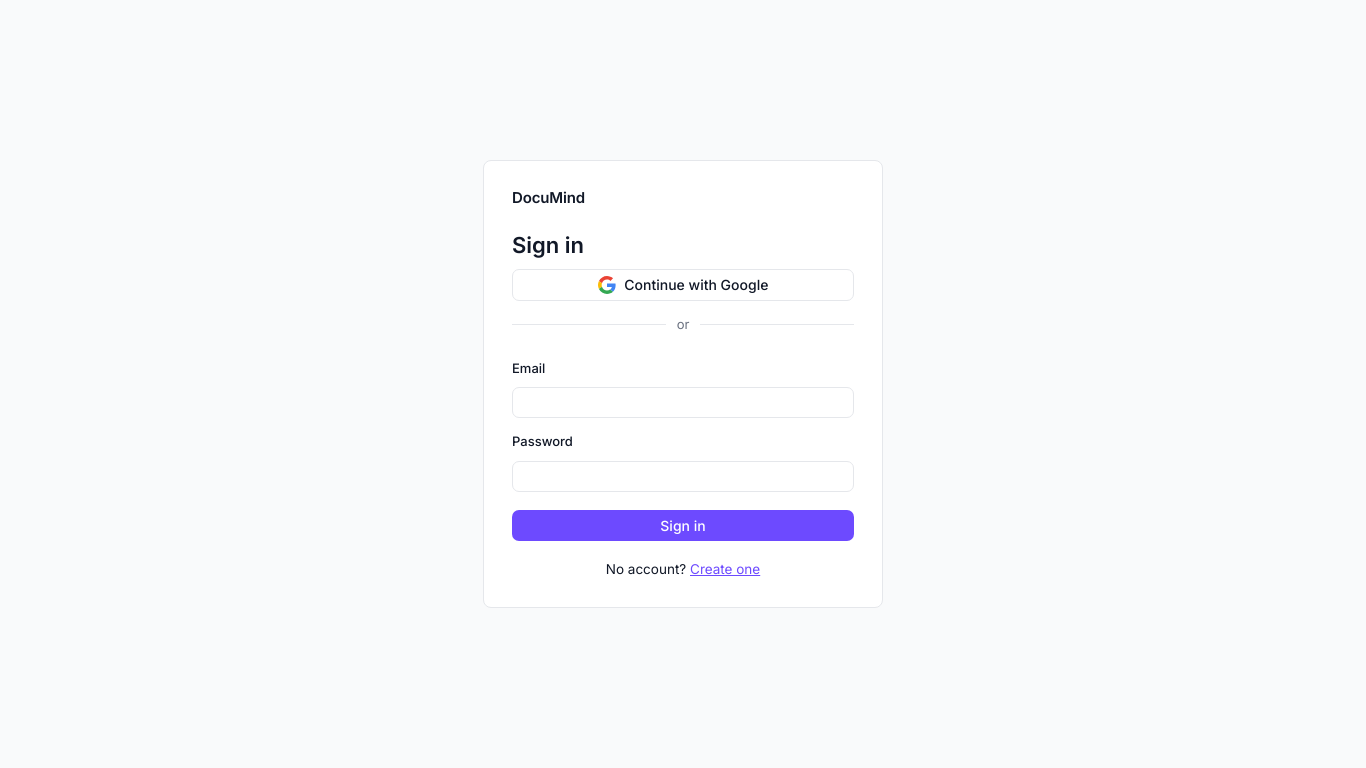
Test: Authentication › login success restores the user and opens the dashboard with the org header set
Type "alice@example.com" into the field labelled "Email". click: [683, 403]
box: 512,387 -> 854,418
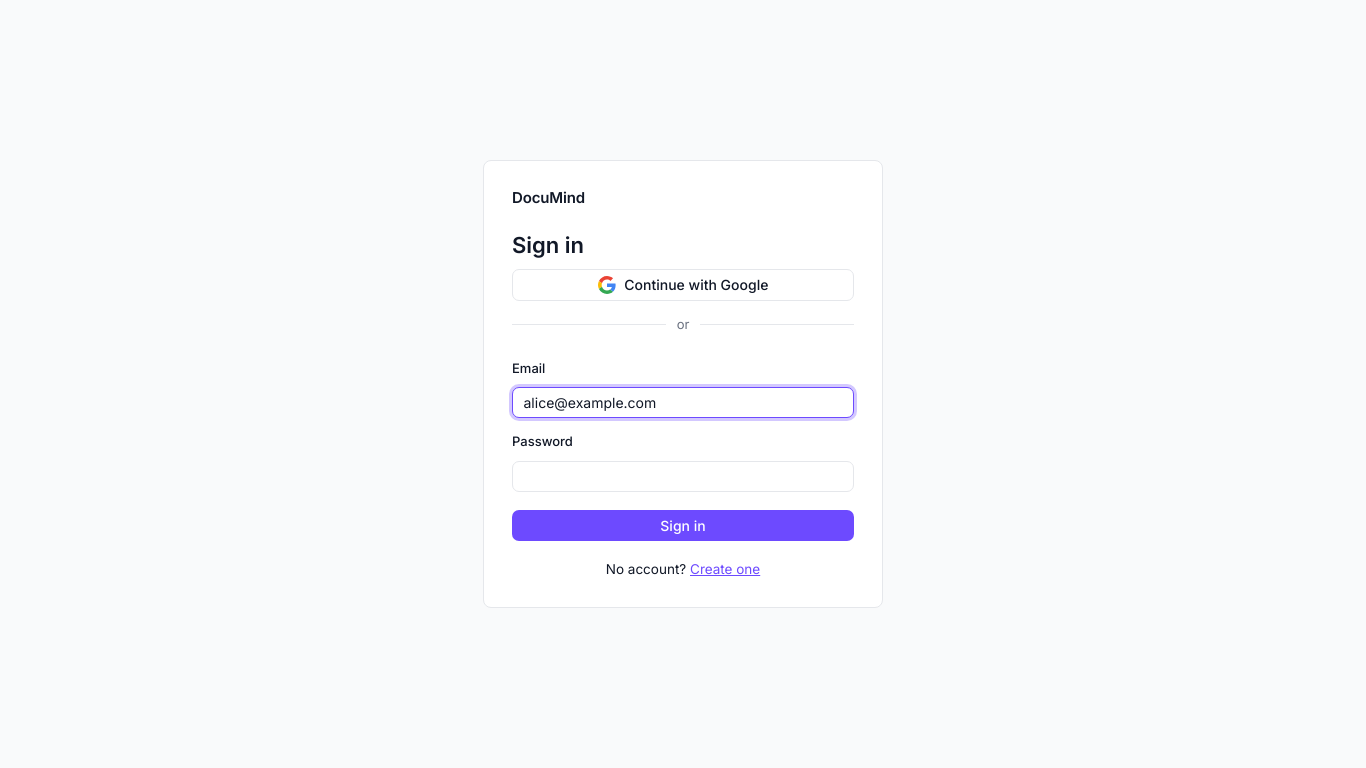
Type "Password123!" into the password field labelled "Password". click: [683, 476]
box: 512,460 -> 854,492
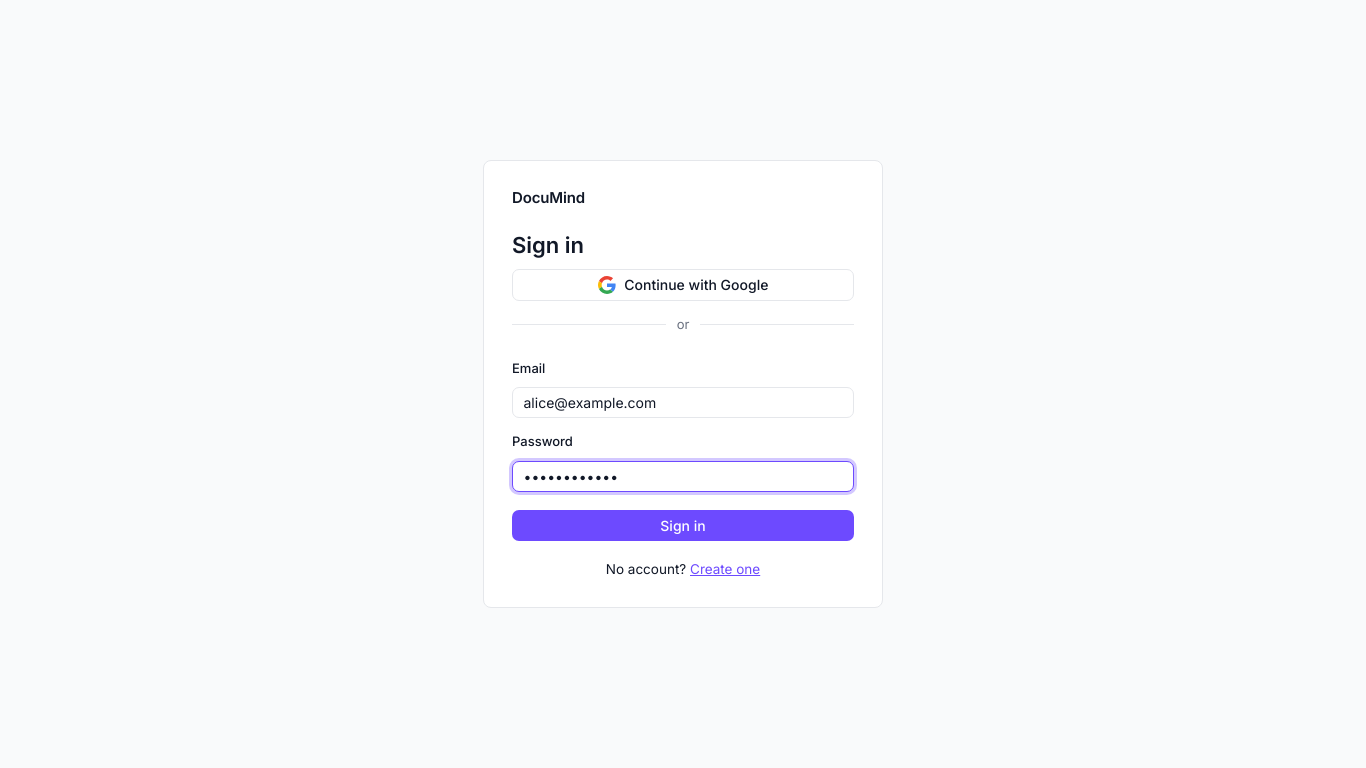
Click the button "Sign in". click: [683, 525]
box: 512,510 -> 854,541
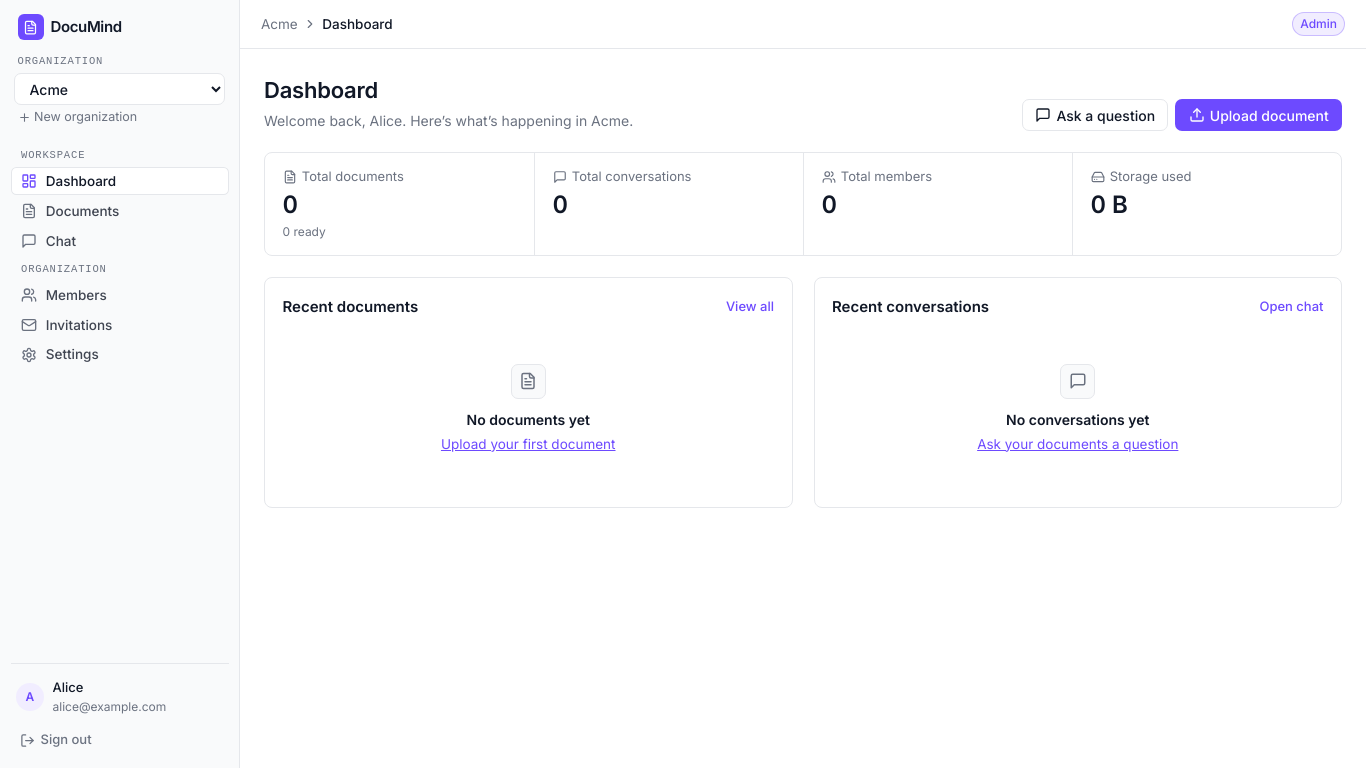
Result: the heading "Dashboard" is shown at 264,77 -> 378,103
